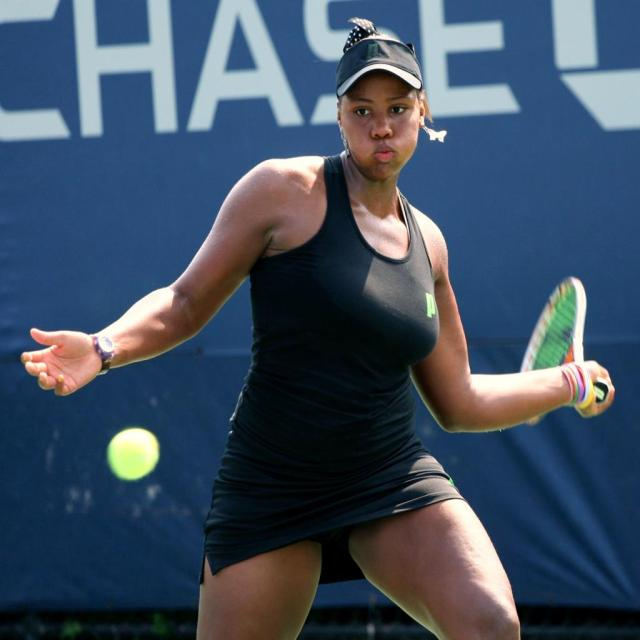Face: (340, 65, 432, 191)
